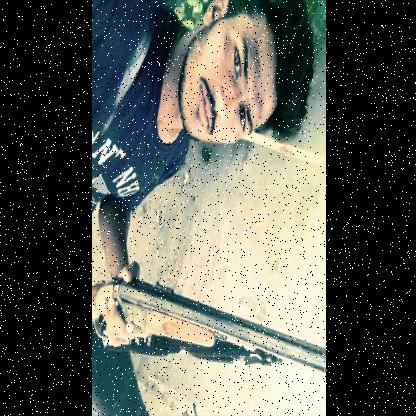rifle: (91, 268, 325, 373)
